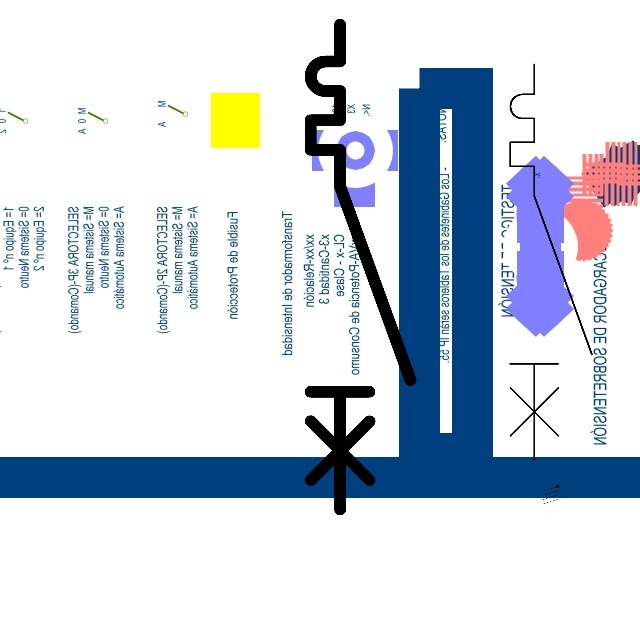interruptor_termomagnetico: (298, 12, 423, 522), (500, 54, 602, 470)
